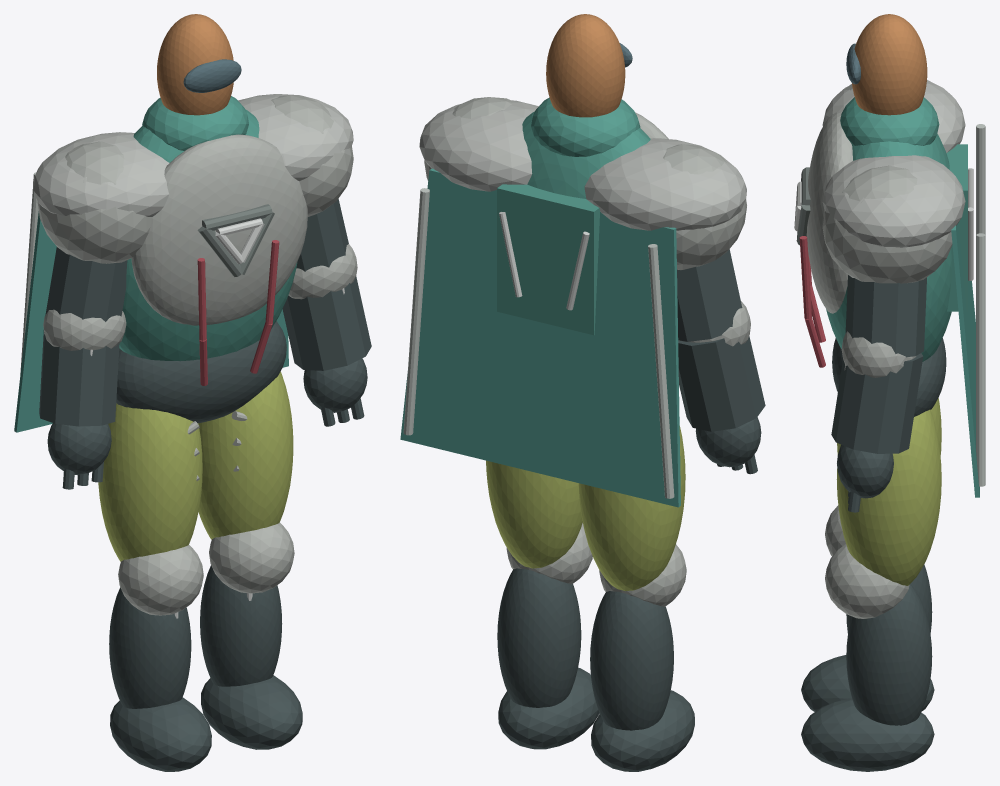
File: coven_prototype.glb
3 renders of one model, left to right at view 1: azimuth 30°, elevation 25°; view 2: azimuth 150°, elevation 25°; view 3: azimuth 270°, elevation 25°, orthographic. The views are drawn at different scales.
Visible parts, largest first — view 1: chest, thigh_-1, thigh_1, arm_-1, hip, arm_1, shin_-1, shin_1, torso, mantle_left, shoulder_-1, foot_1 (+18 smaller); view 2: rear_cloak, back_plate, arm_-1, mantle_left, shin_1, shin_-1, thigh_-1, mantle_right, thigh_1, helmet, foot_-1, foot_1 (+11 smaller); view 3: arm_1, thigh_1, shin_1, mantle_right, shoulder_1, foot_1, helmet, chest, torso, knee_1, collar, rear_cloak (+15 smaller).
Part boxes in pixels (x1,y1,x2,y2): chest: (131,134,307,325); thigh_-1: (98,403,202,561); thigh_1: (198,371,293,539); arm_-1: (39,247,127,426); hip: (116,321,286,423); arm_1: (282,199,371,370); shin_-1: (109,587,191,708); shin_1: (200,565,282,686); torso: (119,109,297,361); mantle_left: (33,132,169,216); shoulder_-1: (37,141,151,263); foot_1: (201,675,302,749); rear_cloak: (400,168,680,507); back_plate: (497,184,599,335); arm_-1: (677,249,765,431); mantle_left: (584,138,746,230); shin_1: (497,568,581,707); shin_-1: (590,591,673,730); thigh_-1: (578,426,685,591); mantle_right: (419,100,538,191); thigh_1: (486,460,582,568); helmet: (546,14,625,117); foot_-1: (591,690,694,771); foot_1: (498,667,599,749); arm_1: (831,275,926,453); thigh_1: (836,409,941,585); shin_1: (846,584,932,725); mantle_right: (822,155,965,247); shoulder_1: (822,165,952,283); foot_1: (801,698,934,771); helmet: (852,14,927,115); chest: (806,111,852,313); torso: (826,134,951,361); knee_1: (825,544,909,618); collar: (840,97,939,145); rear_cloak: (951,223,979,497).
Size of the model in its own units: 0.782 by 1.68 by 0.401.
